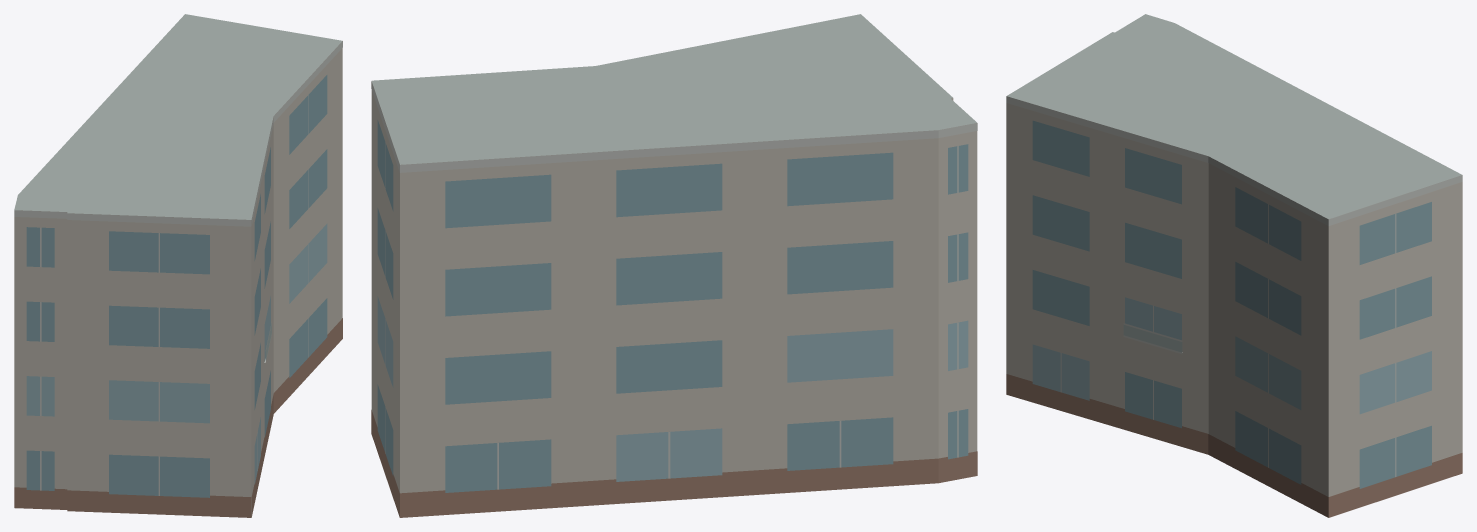
File: survey-upis-32874035.glb
3 renders of one model, left to right at view 1: azimuth 30°, elevation 25°; view 2: azimuth 150°, elevation 25°; view 3: azimuth 270°, elevation 25°, orthographic. The views are drawn at different scales.
Parts seen in each view (by area): view 1: survey-upis-32874035.tmp; view 2: survey-upis-32874035.tmp; view 3: survey-upis-32874035.tmp.
Boxes of the visible parts, x1=… form: survey-upis-32874035.tmp: x1=14, y1=14, x2=342, y2=517; survey-upis-32874035.tmp: x1=371, y1=14, x2=977, y2=517; survey-upis-32874035.tmp: x1=1006, y1=14, x2=1462, y2=517.
Bounding box in the file's own units: 15.8 × 10.7 × 14.83.
